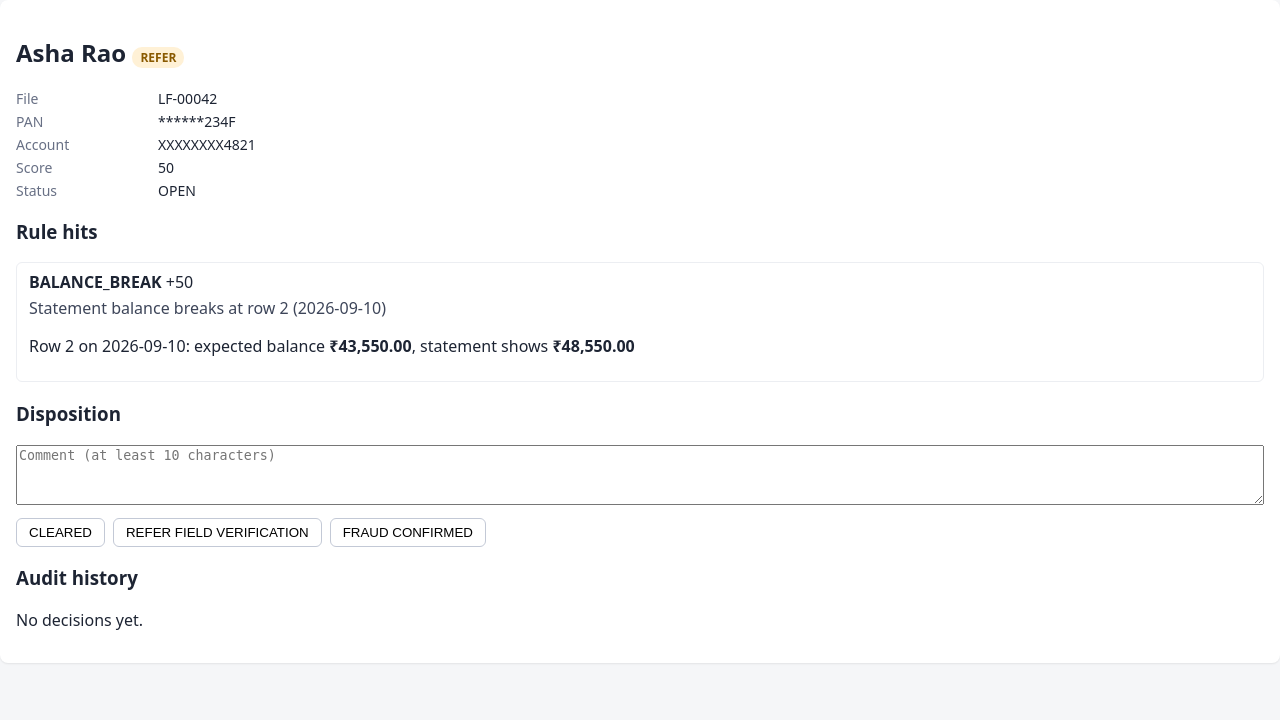
Scenario: CaseDetailPanel › shows the API error message when a disposition is rejected
Expected: the text "******234F" is shown, [158, 112, 236, 131]
Step 1. Type "short" into the text box labelled "Comment" → (640, 475), box [16, 445, 1264, 505]
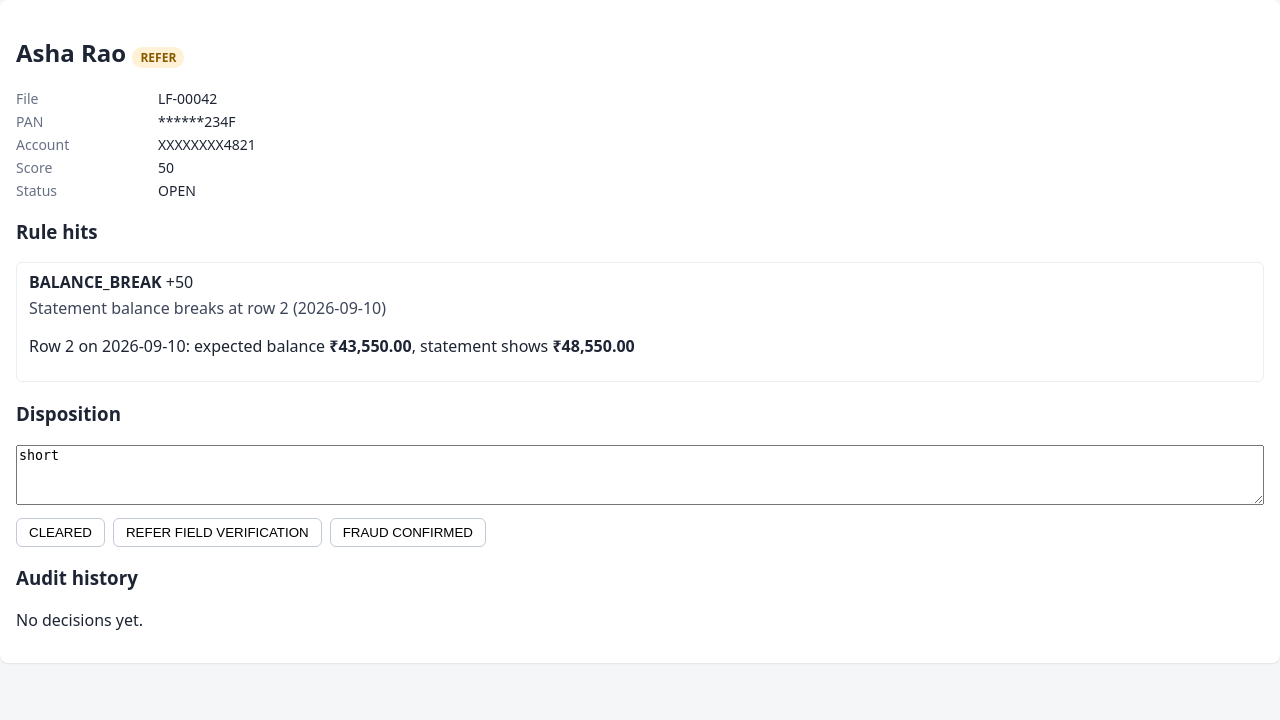
Step 2. Click the button "CLEARED" → click(60, 532), box [16, 518, 105, 547]
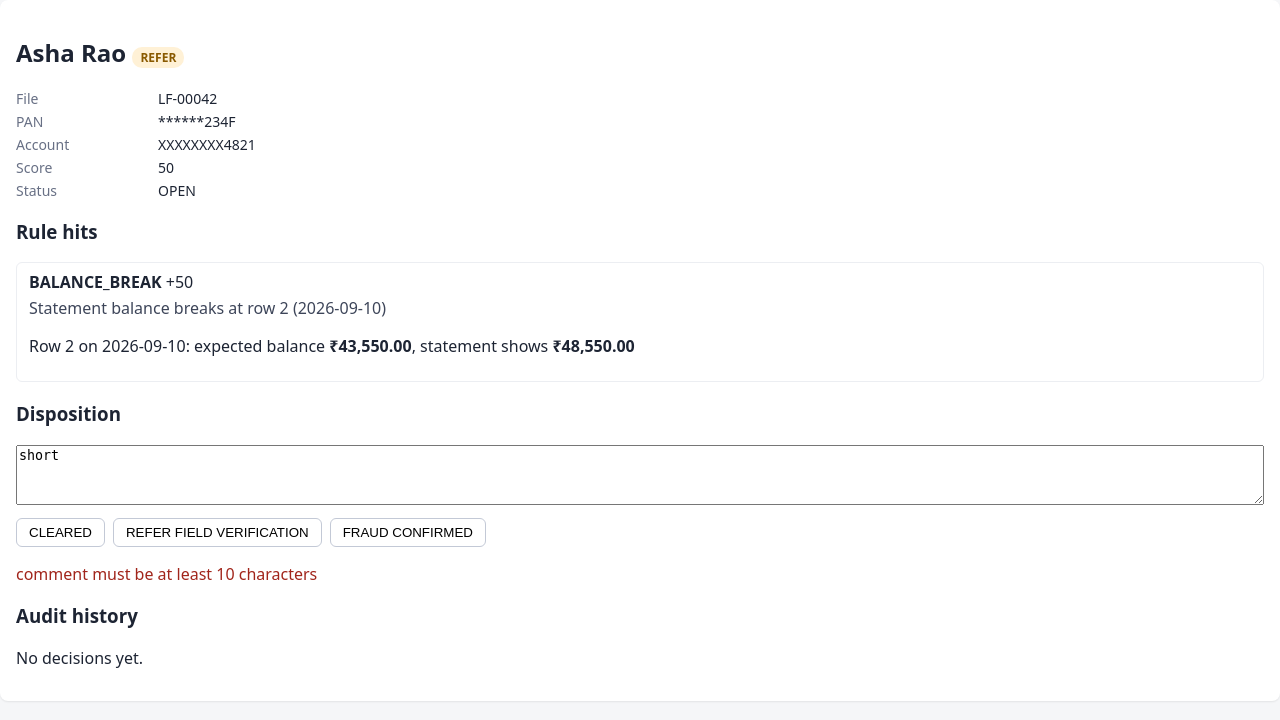
Expected: the message reads "comment must be at least 10 characters", [16, 563, 317, 585]
